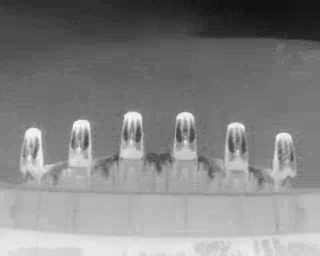claw: (224, 120, 248, 174), (272, 132, 297, 183), (173, 111, 198, 160), (120, 110, 144, 161), (21, 126, 46, 172), (68, 119, 92, 165)
